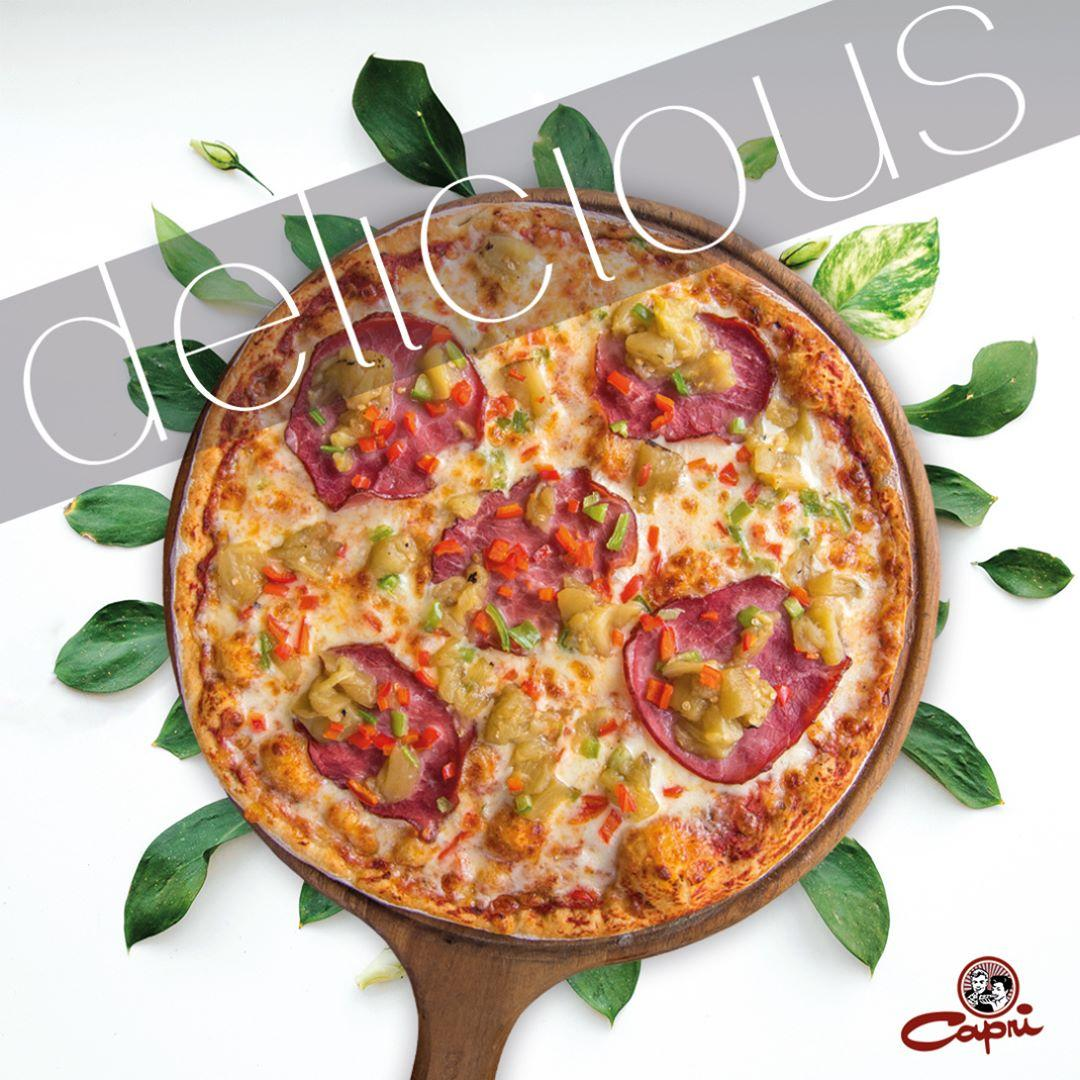Pepperoni: (625, 580, 835, 780), (428, 479, 637, 649), (293, 313, 482, 497), (303, 643, 459, 817), (590, 314, 773, 438)
Pizza: (172, 202, 918, 940)
